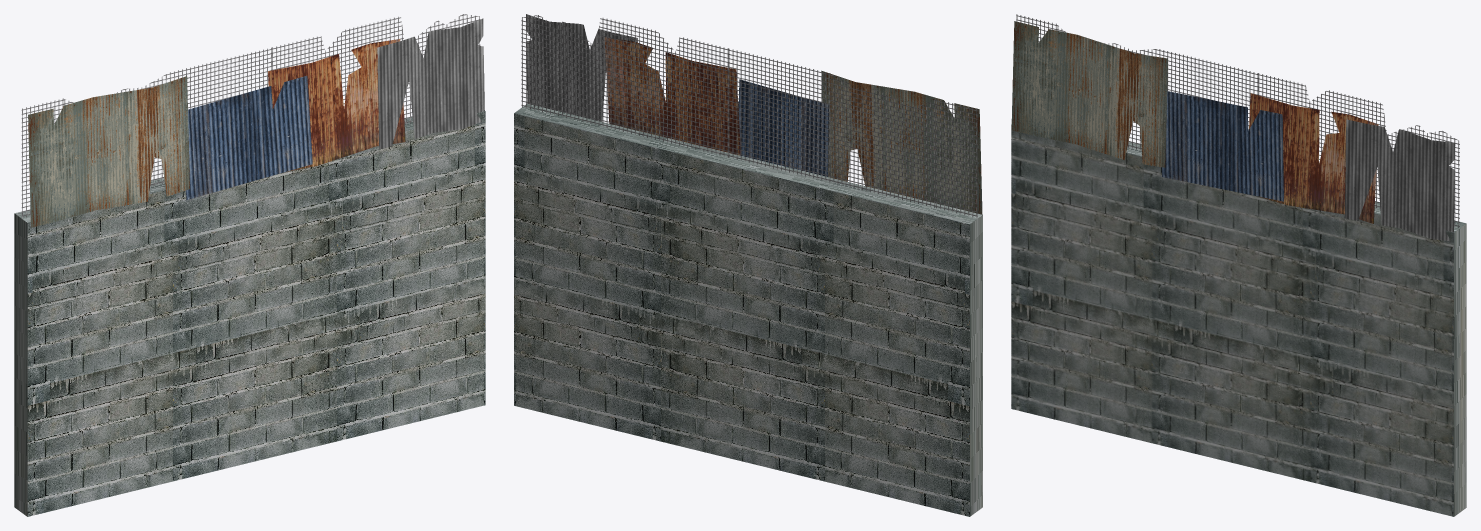
Rendered from Modular Block Wall Variant3.glb.
The picture shows the model from 3 angles, left to right: view 1: azimuth 30°, elevation 25°; view 2: azimuth 150°, elevation 25°; view 3: azimuth 330°, elevation 25°; orthographic projection. The views are drawn at different scales.
Parts seen in each view (by area): view 1: Hollowblock Wall.002, rusty metal 2.002, rusty metal 3.002, ROof 2.002, rusty metal.002, Screen.006, Screen.007, Screen.008; view 2: Hollowblock Wall.002, rusty metal 2.002, Screen.007, Screen.006, rusty metal.002, ROof 2.002, rusty metal 3.002, Screen.008; view 3: Hollowblock Wall.002, rusty metal 2.002, rusty metal 3.002, ROof 2.002, rusty metal.002, Screen.006, Screen.007.
Boxes of the visible parts, x1,y1,x2,y2 form: Hollowblock Wall.002: (14,111,485,516); rusty metal 2.002: (28,76,189,227); rusty metal 3.002: (186,75,312,200); ROof 2.002: (377,18,484,149); rusty metal.002: (268,39,405,171); Screen.006: (271,14,480,124); Screen.007: (63,47,272,186); Screen.008: (21,98,64,218); Hollowblock Wall.002: (514,104,982,516); rusty metal 2.002: (821,70,982,214); Screen.007: (728,48,936,207); Screen.006: (521,15,729,157); rusty metal.002: (604,37,740,155); ROof 2.002: (526,14,637,121); rusty metal 3.002: (738,79,828,176); Screen.008: (935,99,977,217); Hollowblock Wall.002: (1011,124,1466,516); rusty metal 2.002: (1011,21,1167,167); rusty metal 3.002: (1161,91,1283,201); ROof 2.002: (1344,119,1455,240); rusty metal.002: (1249,93,1378,223); Screen.006: (1257,73,1459,227); Screen.007: (1057,25,1258,150).
Size of the model in its own units: 10.15 by 8.55 by 0.63.
Materials: 6 (6 with a texture image).
